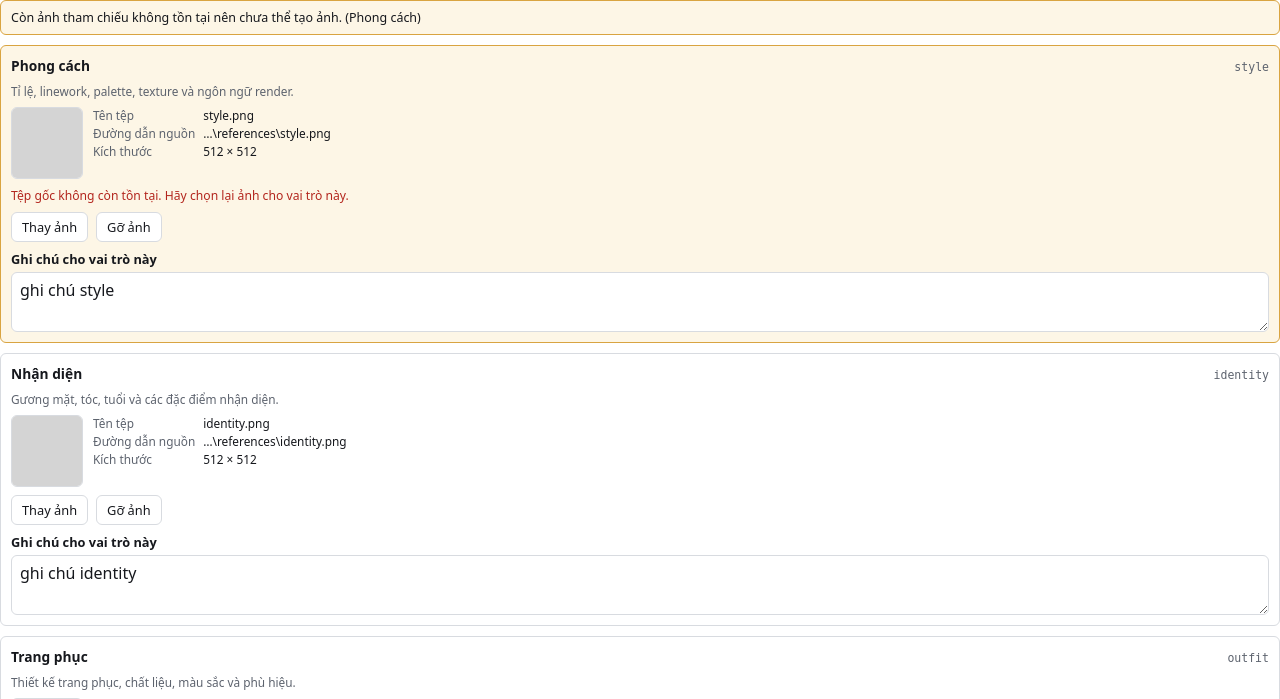
Test: a reference whose file has gone (spec section 4.2) › lets Generate through again once the file is replaced
What coordinates should you click on to do the following:
click the button "Thay ảnh" below "…\\references\\style.png"
I would click on:
 (50, 227)
Its box is [11,212,88,242].
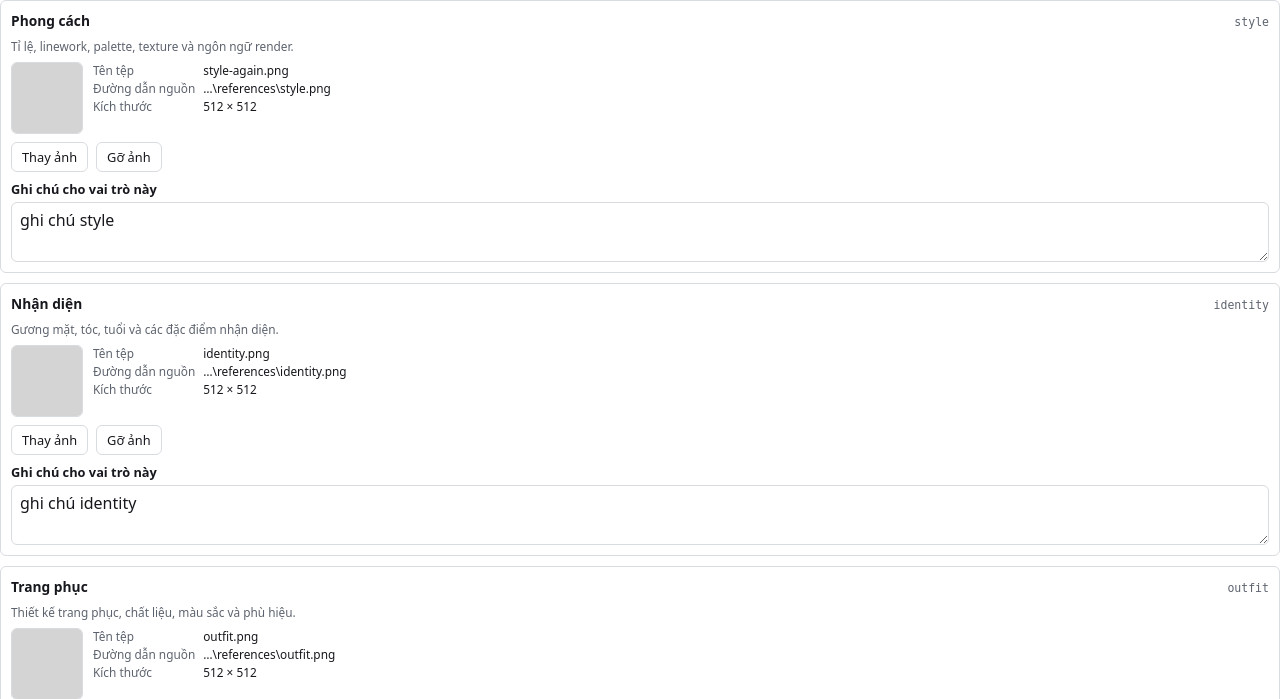
Result: the message "Còn ảnh tham chiếu không tồn tại nên chưa thể tạo ảnh. (Phong cách)" is gone
